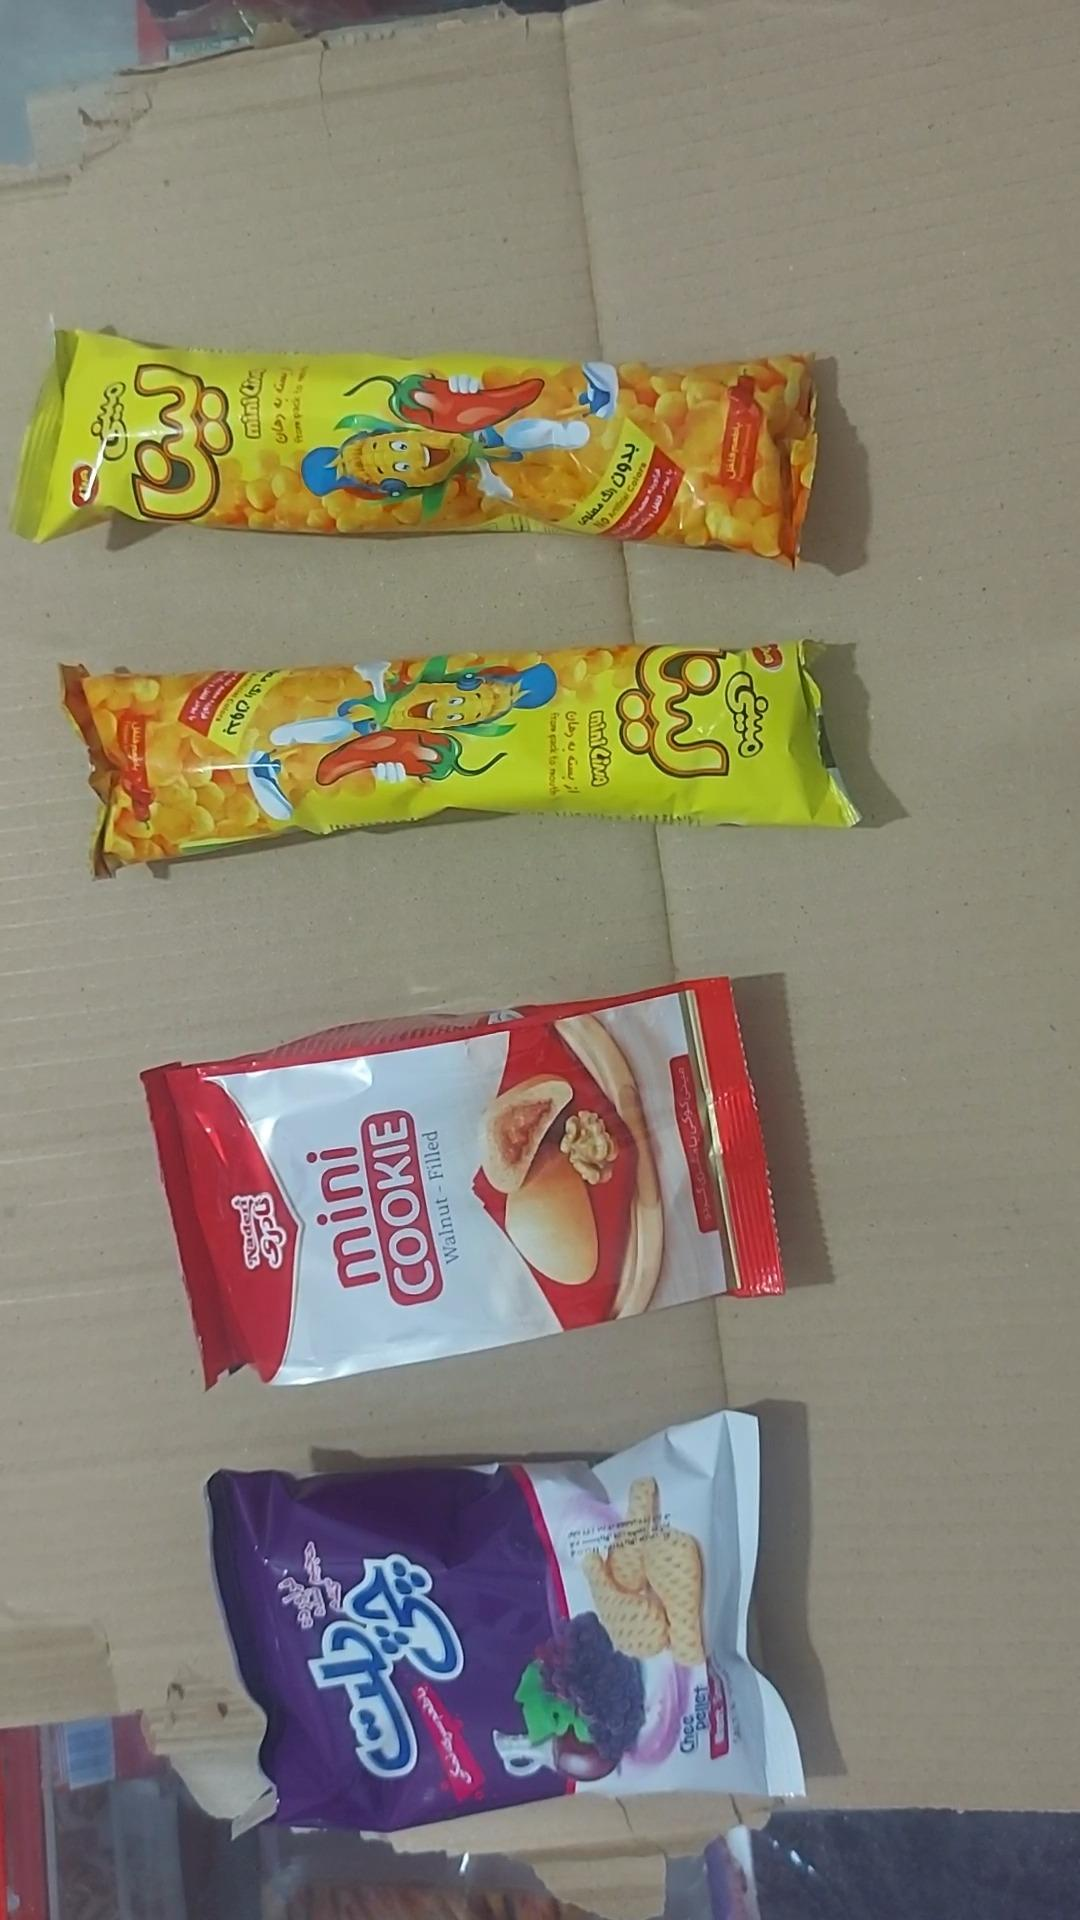Chee pellet vinegar: (204, 1411, 807, 1834)
Mini Lina: (11, 328, 818, 568), (61, 644, 862, 880)
Naderi mini cookie: (136, 978, 785, 1390)
